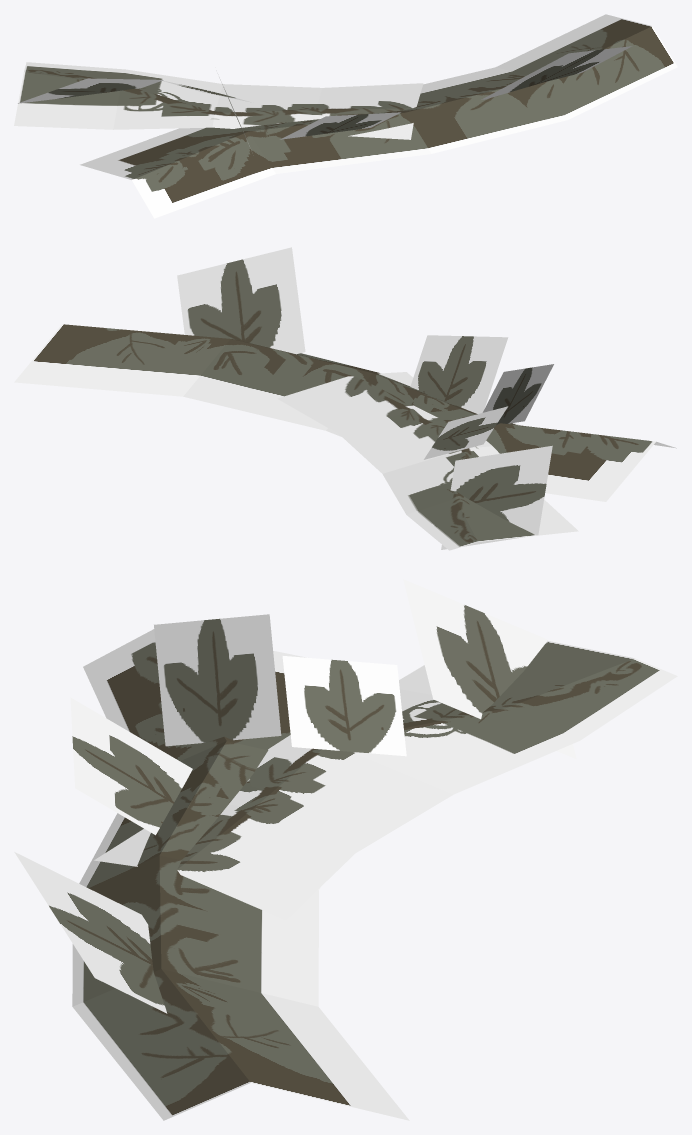
Rendered from Vine2.fbx.
The picture shows the model from 3 angles, top to bottom: view 1: azimuth 30°, elevation 25°; view 2: azimuth 150°, elevation 25°; view 3: azimuth 270°, elevation 25°; orthographic projection. The views are drawn at different scales.
Parts seen in each view (by area): view 1: Vines.023; view 2: Vines.023; view 3: Vines.023.
Boxes of the visible parts, x1,y1,x2,y2 form: Vines.023: (14,14,677,218); Vines.023: (14,247,676,550); Vines.023: (14,579,677,1120).
Size of the model in its own units: 531 by 88.75 by 315.
Materials: 1 (1 with a texture image).
